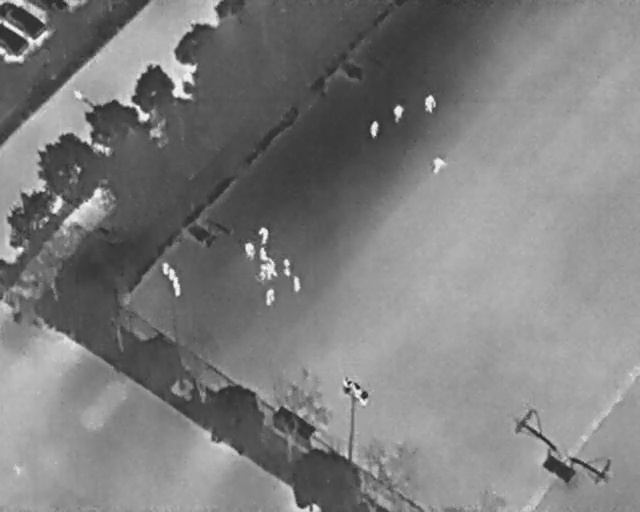Car: (0, 1, 48, 43), (0, 22, 29, 58), (22, 0, 69, 15)
Person: (264, 258, 280, 281), (430, 156, 446, 176), (424, 94, 436, 114), (243, 243, 256, 261), (392, 105, 404, 123), (258, 226, 269, 245), (264, 288, 274, 307), (282, 258, 292, 277), (369, 120, 379, 138), (258, 247, 269, 263), (257, 264, 267, 281), (292, 274, 301, 291)
